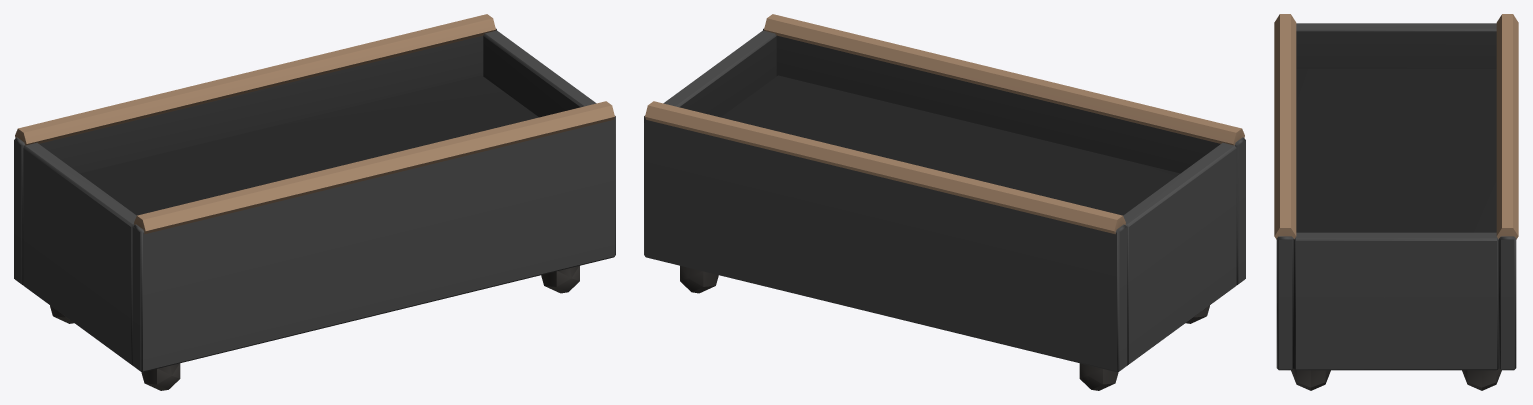
File: tub_iron.glb
The picture shows the model from 3 angles, left to right: view 1: azimuth 30°, elevation 25°; view 2: azimuth 150°, elevation 25°; view 3: azimuth 270°, elevation 25°; orthographic projection. The views are drawn at different scales.
Parts seen in each view (by area): view 1: static; view 2: static; view 3: static.
Boxes of the visible parts, left/top/right/bottom form: static: left=14, top=14, right=615, bottom=390; static: left=644, top=14, right=1245, bottom=390; static: left=1274, top=14, right=1518, bottom=390.
Bounding box in the file's own units: 1.5 × 0.5777 × 0.714.
